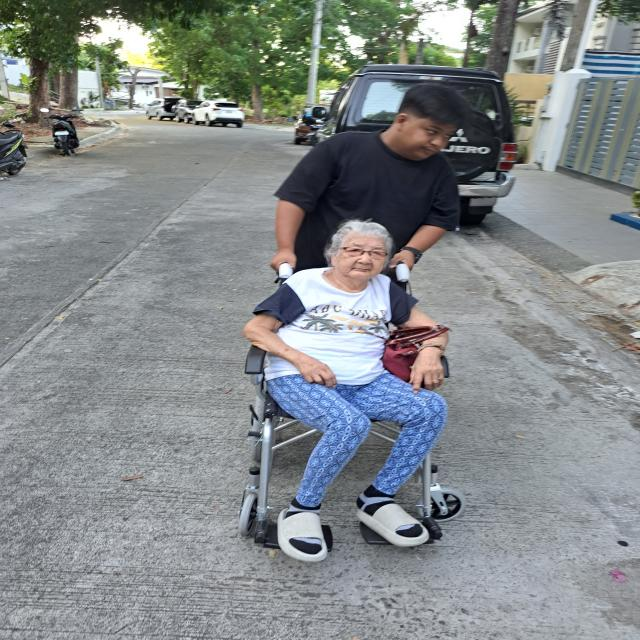wheelchairs: (232, 259, 466, 559)
